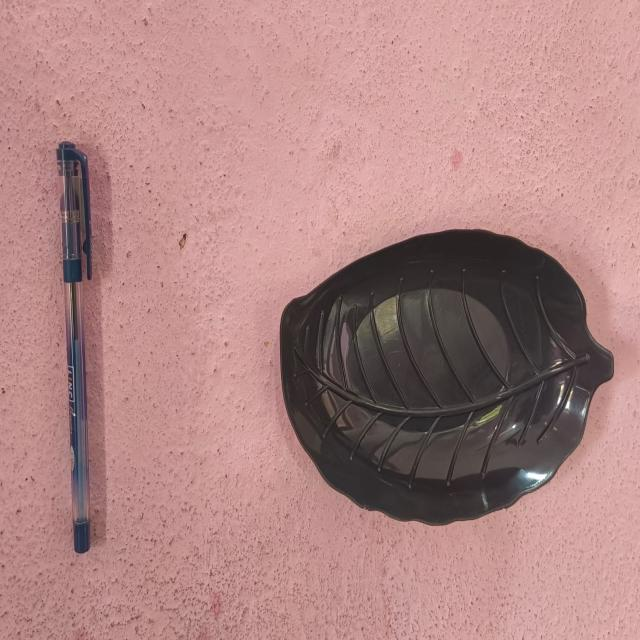pen: (48, 134, 103, 560)
plate: (278, 227, 614, 528)
